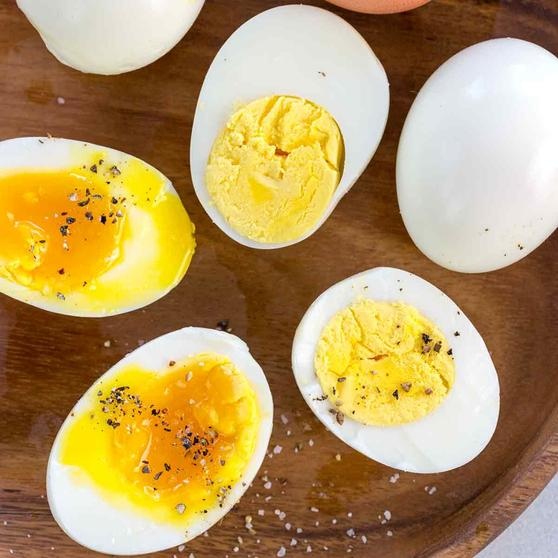egg: (398, 39, 558, 275)
